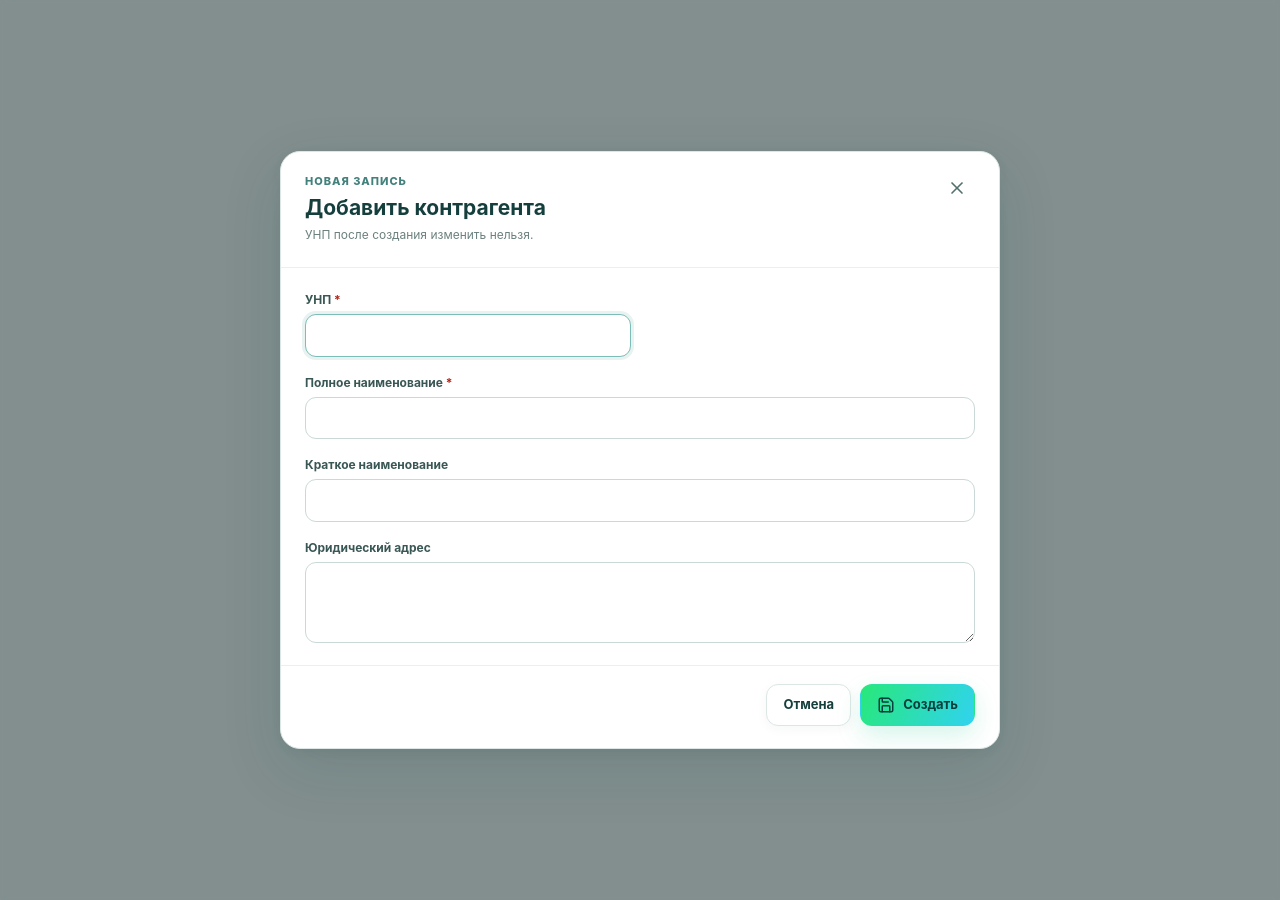
Test case: CounterpartyFormDialog › показывает конфликт 409 рядом с УНП
This screenshot has width=1280, height=900.
Type "190000001" into the field labelled "УНП *". click: (468, 335)
box: [305,314,631,357]
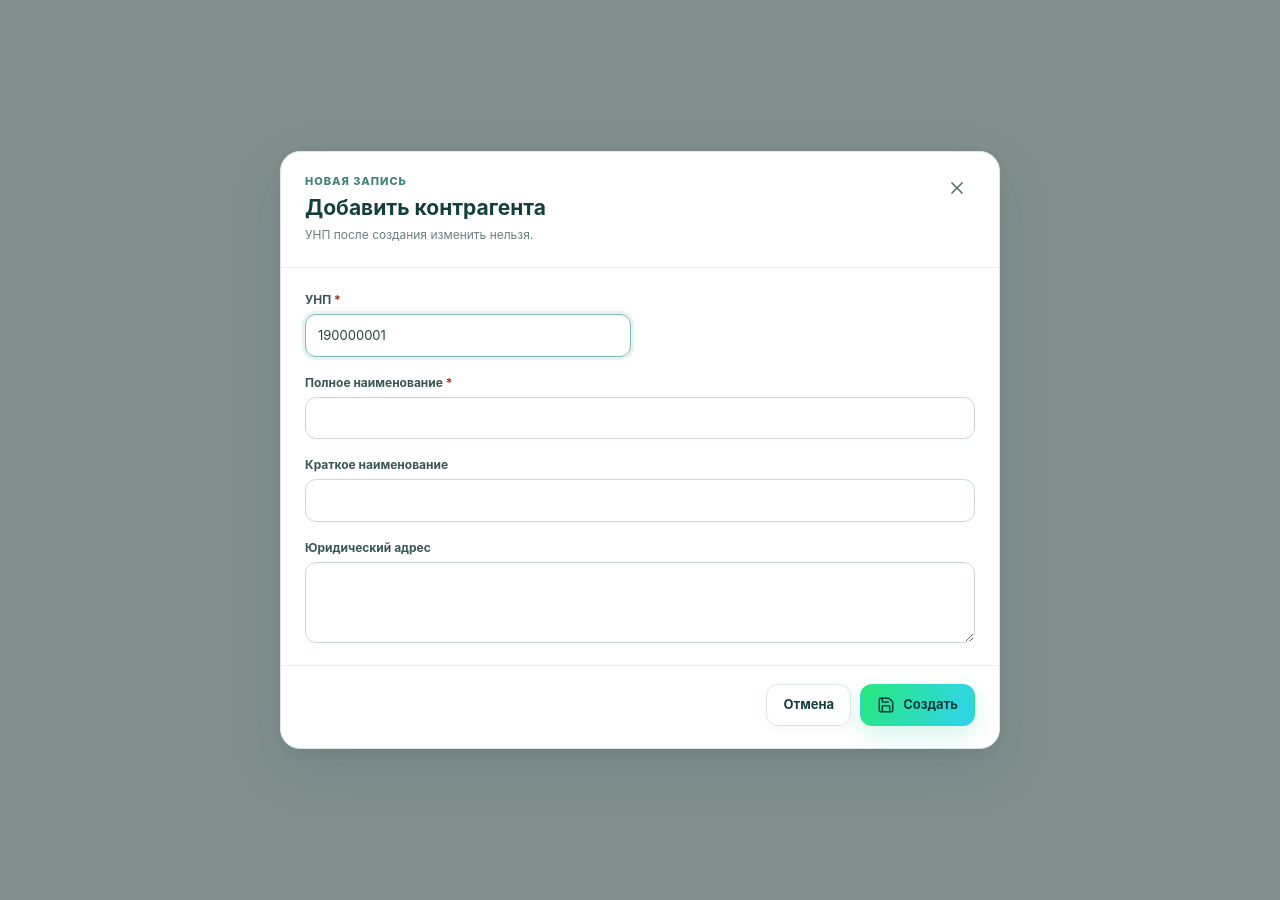
Type "ООО Тест" into the field labelled "Полное наименование *". click: (640, 418)
box: [305,397,975,439]
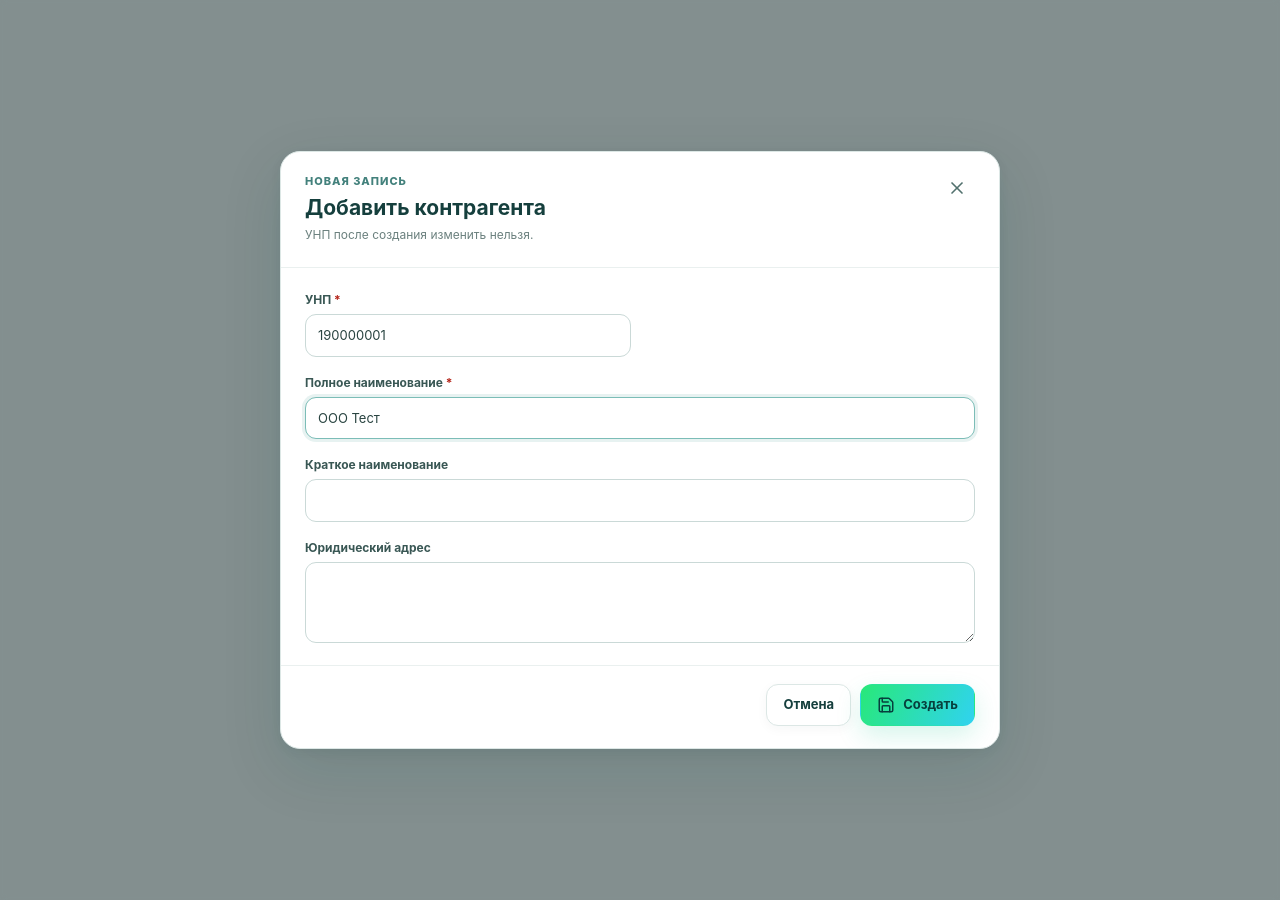
Click the button "Создать". click: (918, 705)
box: [860,684,975,726]
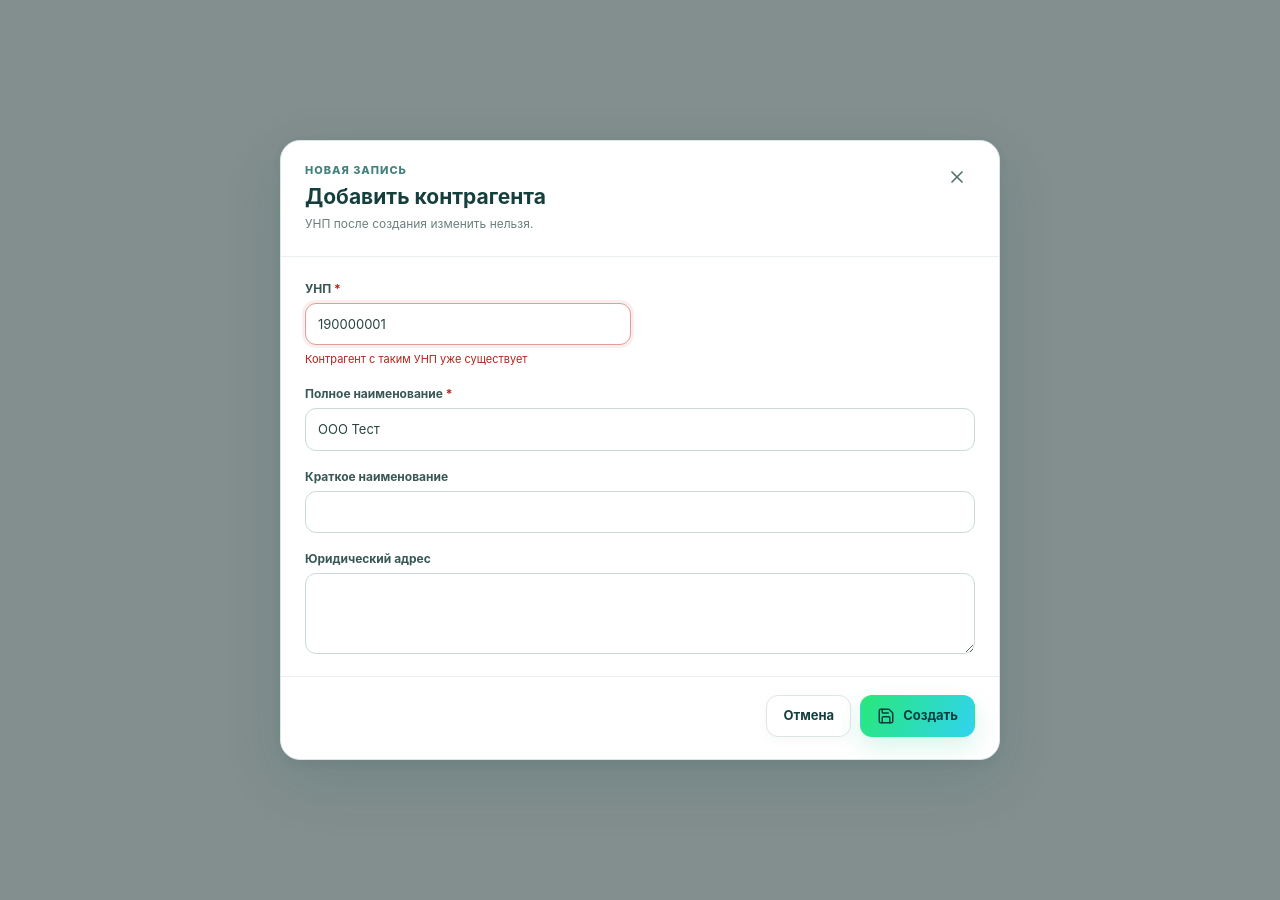
Now the text "Контрагент с таким УНП уже существует" is shown, box [305,352,528,366]
